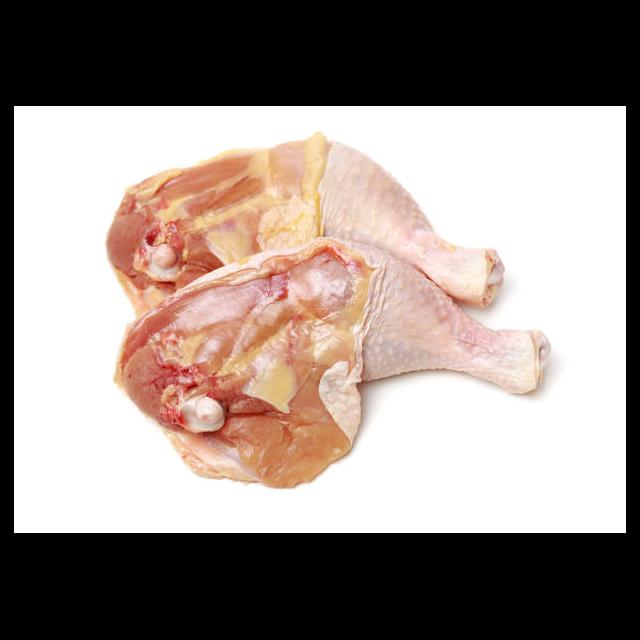chicken: (106, 130, 552, 490)
